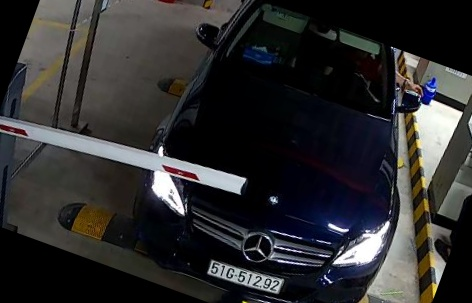plate: (195, 246, 288, 292)
